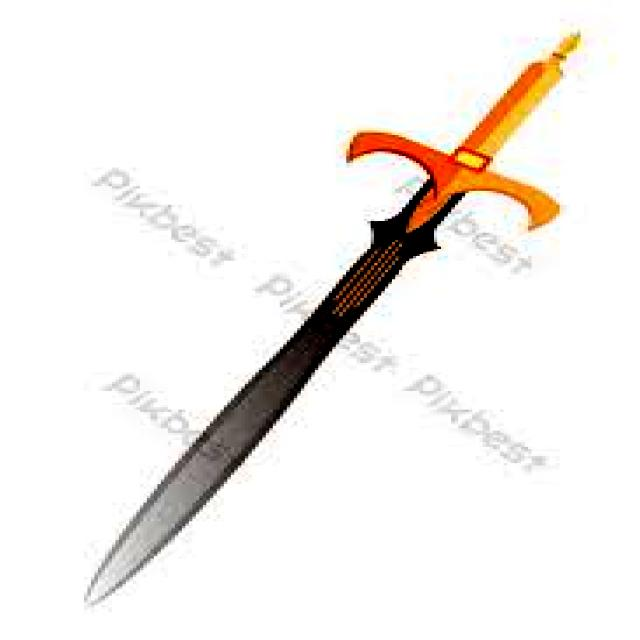long sword: (74, 33, 598, 609)
